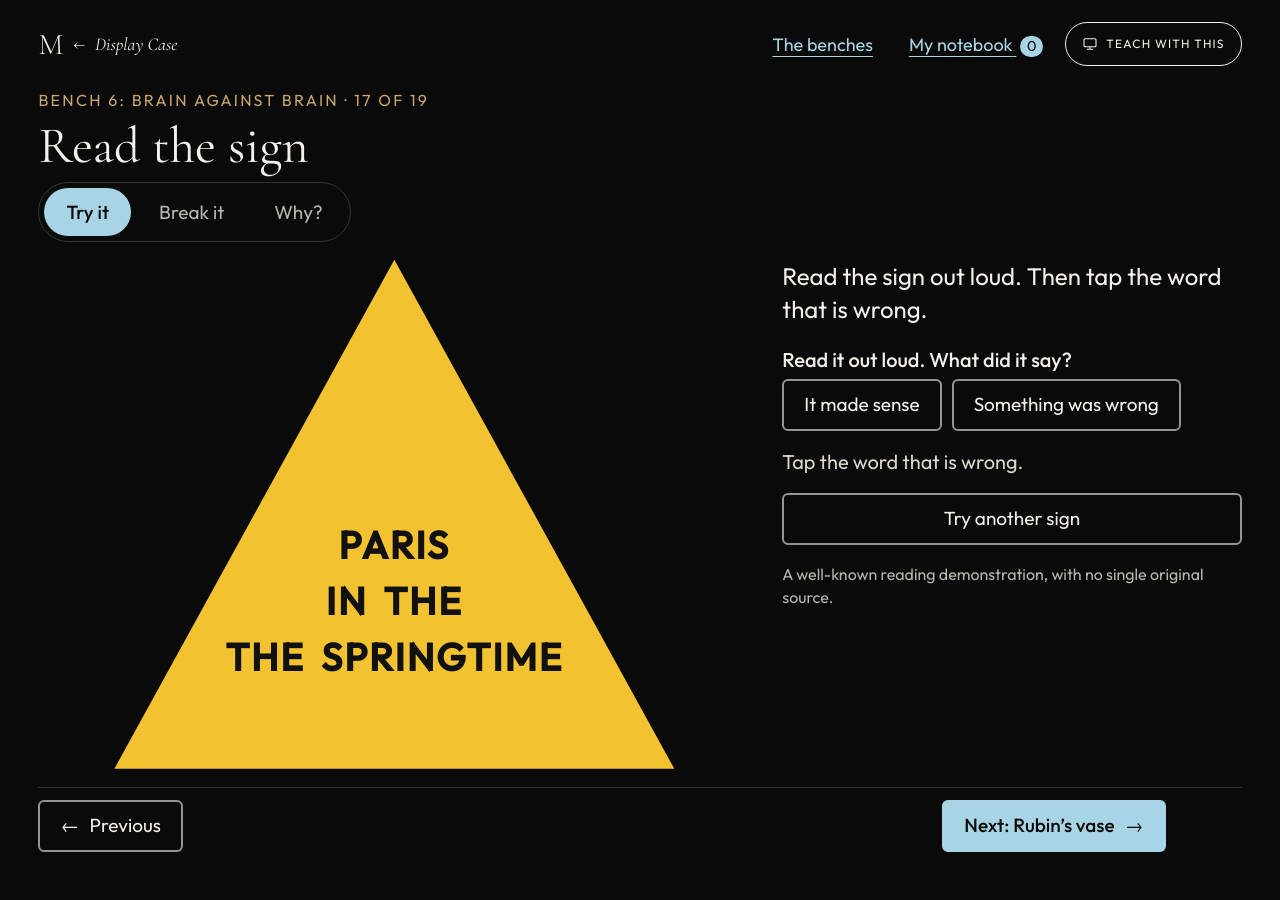
Scenario: a station: Try it, Break it, Why? › never names the Paris trick before the visitor reads the sign
Expected: the heading "Read the sign" is shown, top-left (38, 115), bottom-right (308, 177)
Click the button "Something was wrong". click: (1066,405)
box: top-left (952, 379), bottom-right (1181, 431)
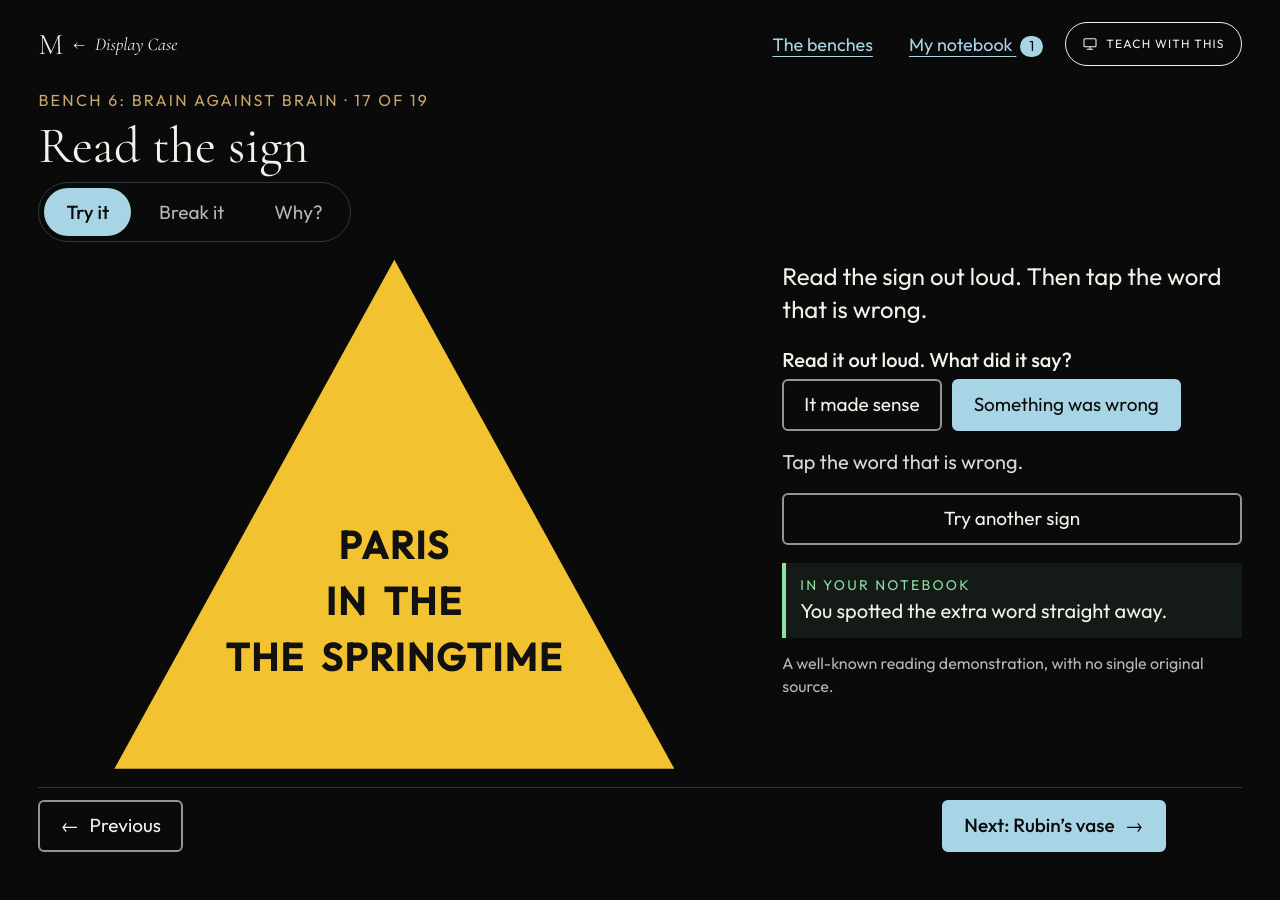
Click the 2nd button "THE". click: (265,657)
box: top-left (221, 631), bottom-right (309, 683)
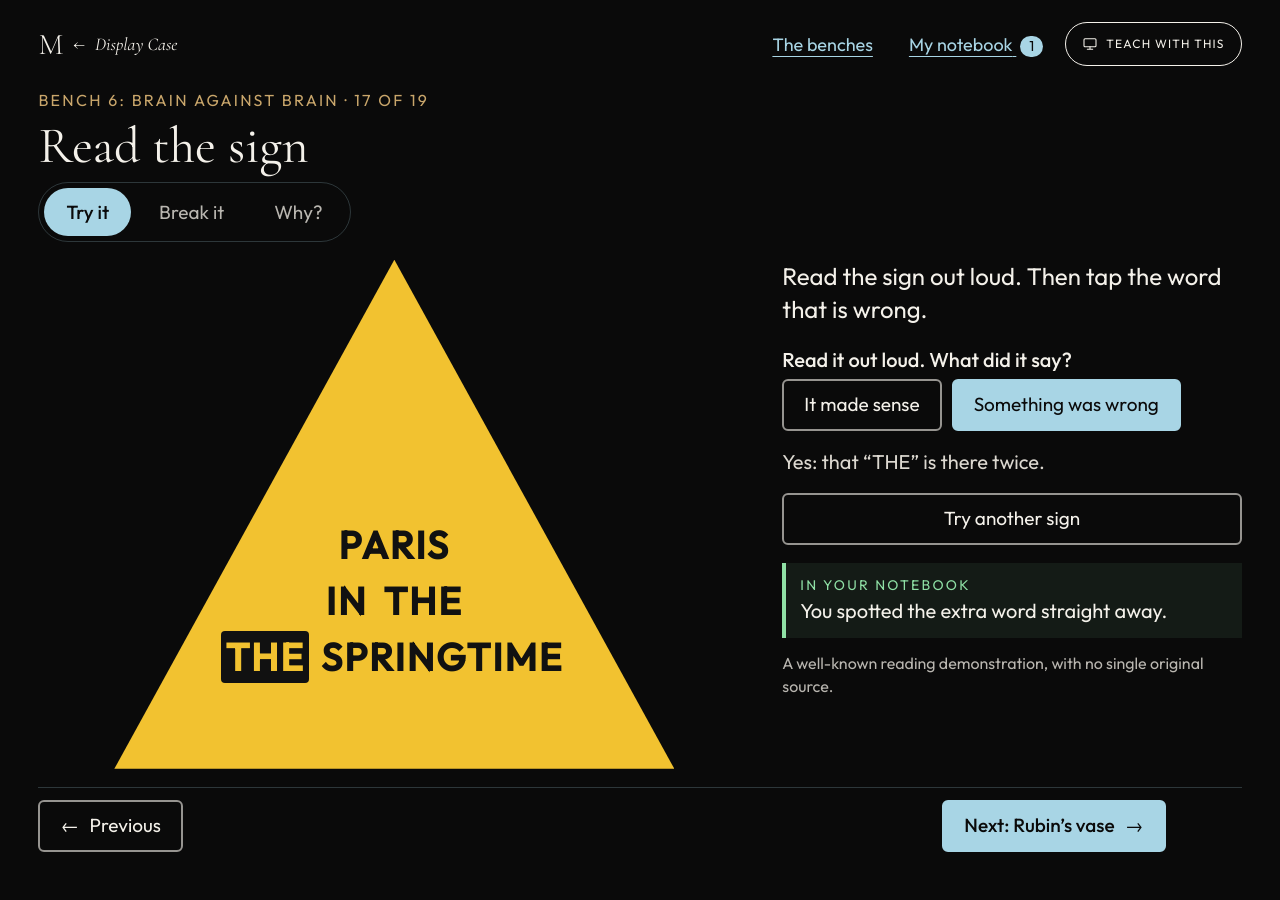
Now the text "Yes: that “THE” is there twice." is shown, box top-left (782, 449), bottom-right (1045, 474)
